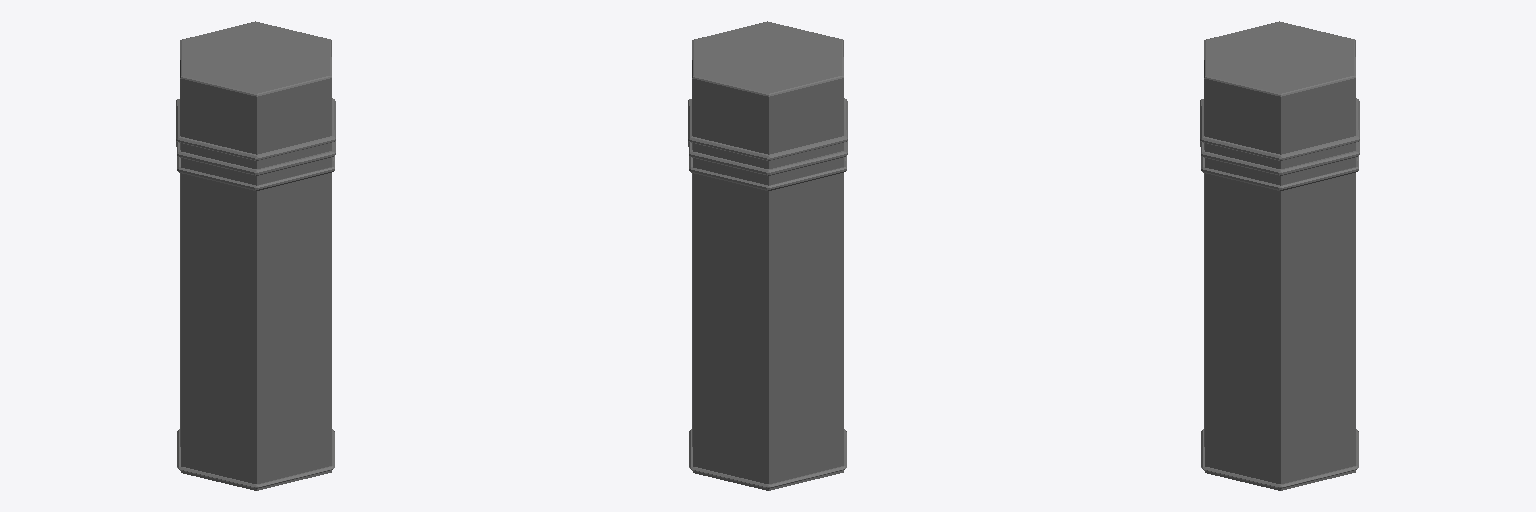
The picture shows the model from 3 angles: view 1: azimuth 30°, elevation 25°; view 2: azimuth 150°, elevation 25°; view 3: azimuth 270°, elevation 25°; orthographic projection.
Parts seen in each view (by area): view 1: Circle; view 2: Circle; view 3: Circle.
Boxes of the visible parts, x1,y1,x2,y2 form: Circle: [176, 21, 335, 490]; Circle: [688, 21, 847, 490]; Circle: [1200, 21, 1359, 490].
Size of the model in its own units: 0.5838 by 1.4 by 0.5125.
Materials: 1 (1 with a texture image).